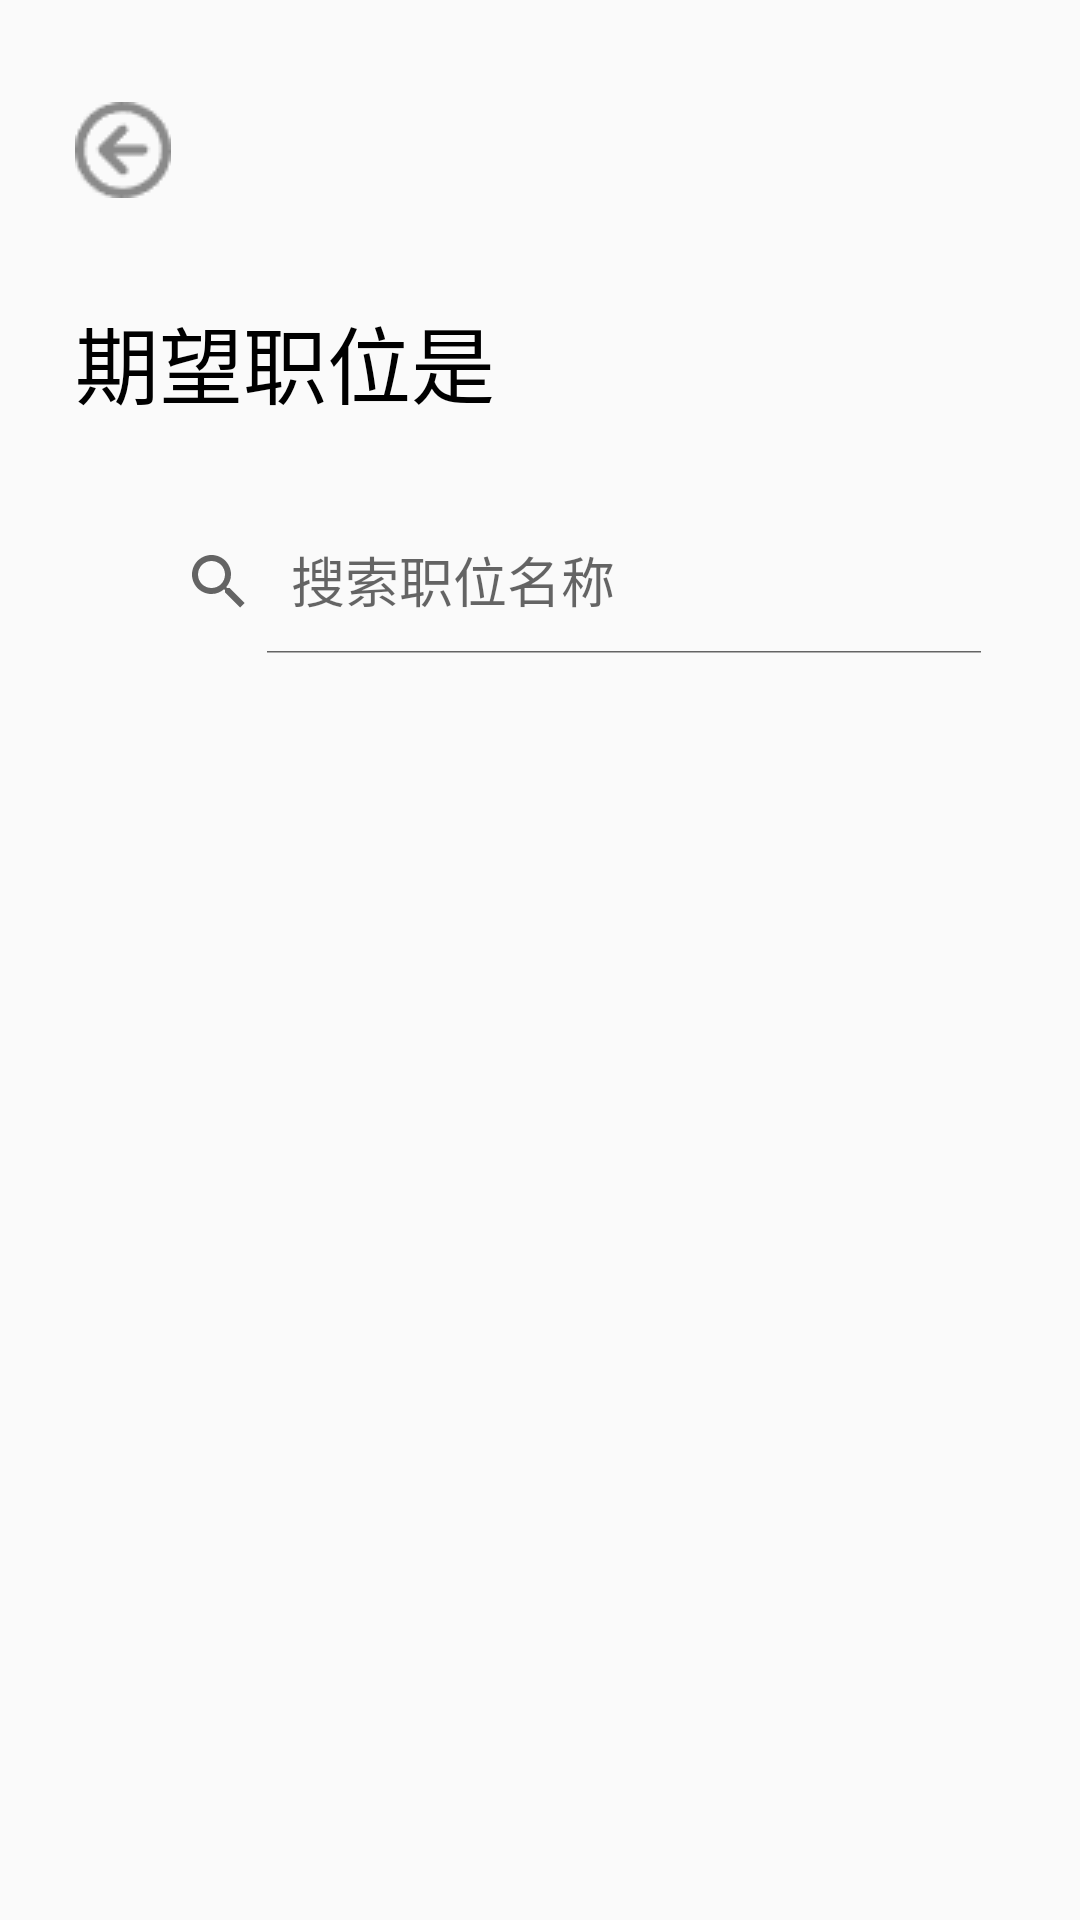

Named icons in this screenshot (1080x1920) and their centers, (x,y):
fanjhui: (123,150)
